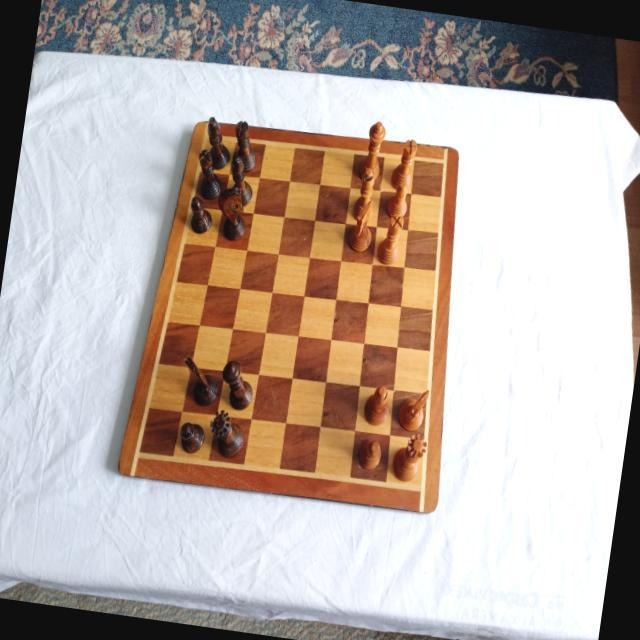black-bishop: (201, 116, 235, 172), (226, 152, 258, 208)
black-king: (218, 358, 258, 412)
black-knight: (177, 354, 222, 407), (213, 184, 251, 242)
black-pawn: (186, 196, 215, 235), (178, 421, 206, 455)
black-queen: (206, 407, 248, 458)
black-rook: (192, 149, 227, 201), (229, 119, 262, 173)
white-bishop: (350, 166, 379, 223), (360, 383, 391, 427)
white-king: (357, 118, 387, 182)
white-knight: (396, 385, 431, 434), (347, 196, 377, 253)
white-pawn: (385, 181, 410, 219), (358, 437, 382, 470)
white-queen: (390, 431, 429, 485)
white-rook: (375, 211, 405, 266), (389, 136, 418, 191)
